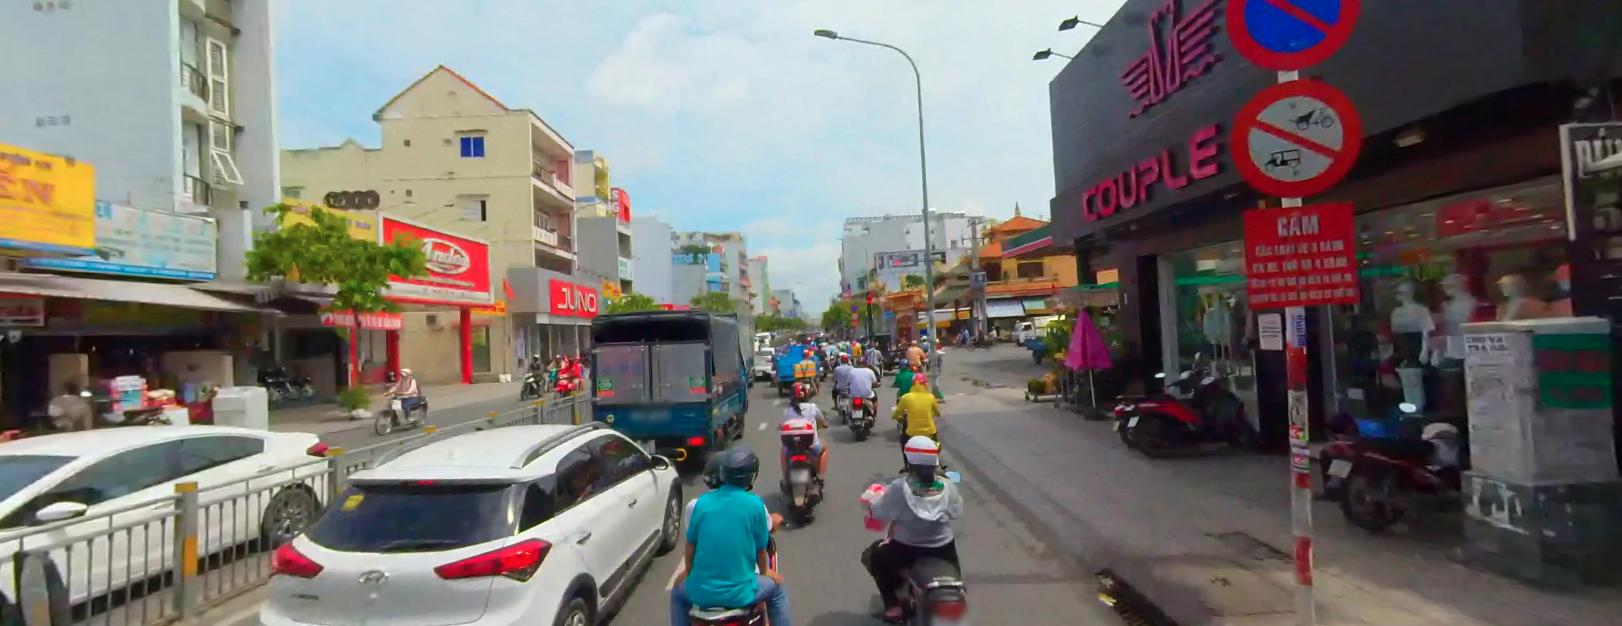Cam con lai: (1230, 79, 1362, 196)
Cam dung va do: (1225, 0, 1359, 70), (851, 303, 857, 310)
